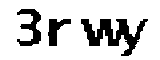3: (11, 7, 42, 51)
r: (46, 14, 74, 51)
w: (80, 16, 121, 49)
y: (119, 15, 150, 59)
